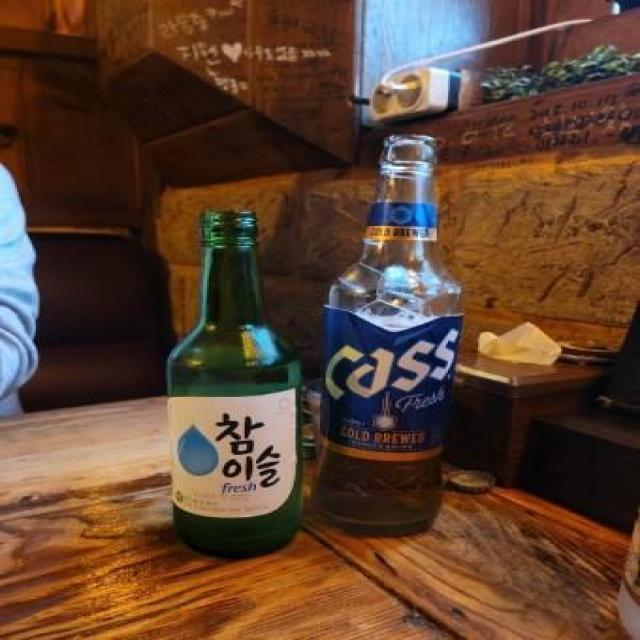beer-bottle: (308, 128, 468, 538)
soju-bottle: (160, 206, 308, 562)
